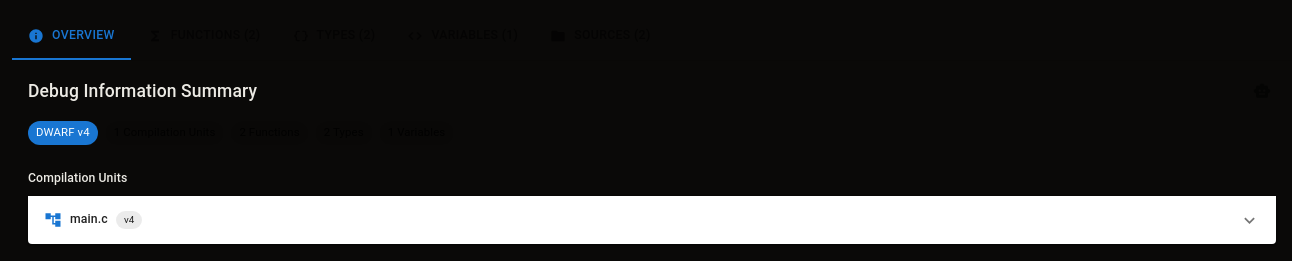
Test: DWARFPanel › displays external function badge
Click the tab "Functions (2)".
click(204, 36)  # box [131,12,276,60]
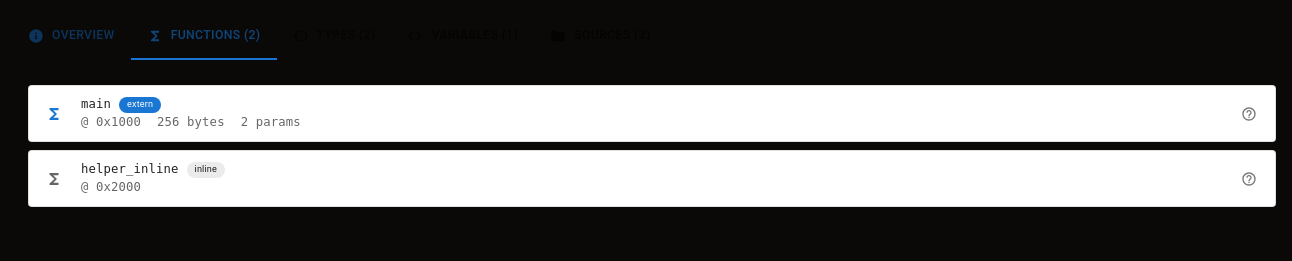
Result: the text "extern" is shown at [127,99,153,109]
